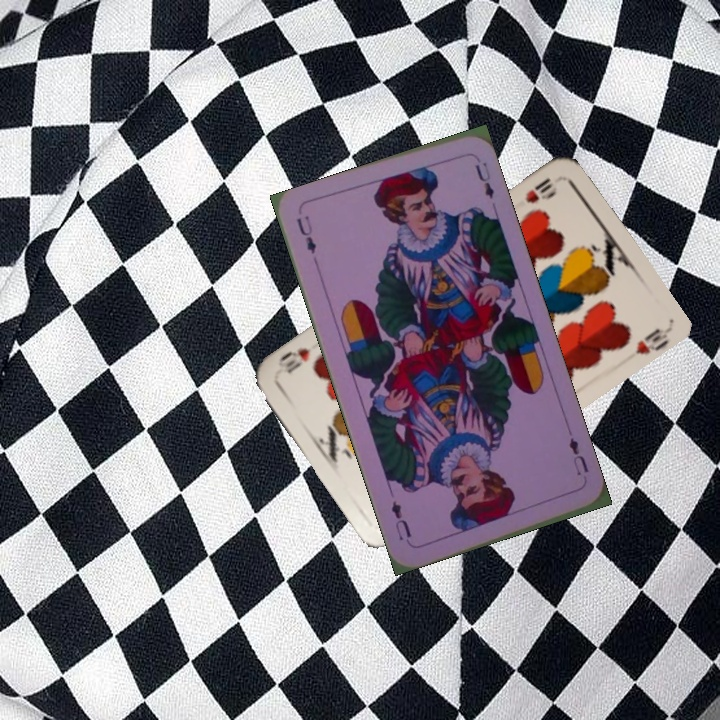EU: (565, 433, 591, 486), (292, 211, 319, 256)
H10: (521, 173, 557, 206)
